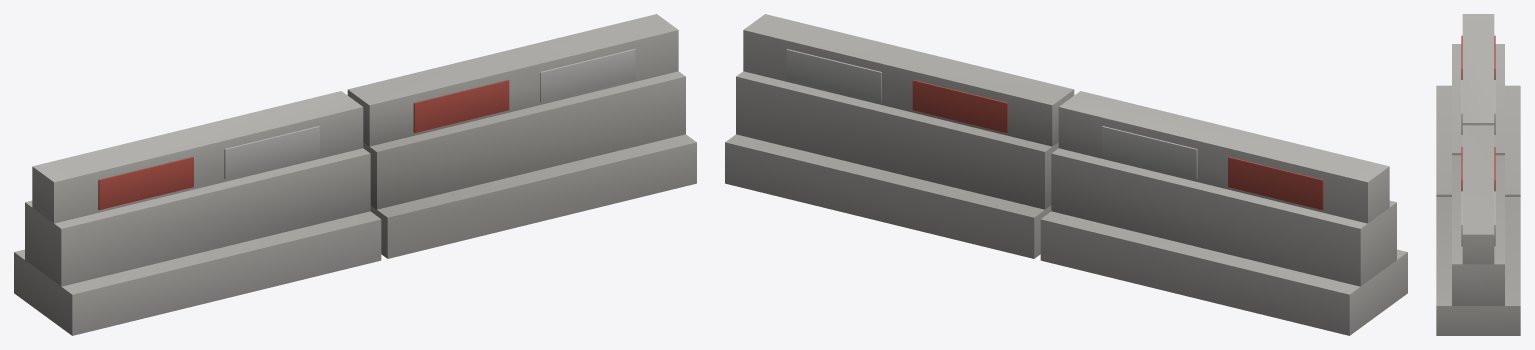
Rendered from jersey.glb.
3 renders of one model, left to right at view 1: azimuth 30°, elevation 25°; view 2: azimuth 150°, elevation 25°; view 3: azimuth 270°, elevation 25°, orthographic. The views are drawn at different scales.
Parts seen in each view (by area): view 1: jersey; view 2: jersey; view 3: jersey.
Boxes of the visible parts, bbox=[...] form: jersey: bbox=[14, 14, 696, 335]; jersey: bbox=[725, 14, 1407, 335]; jersey: bbox=[1436, 14, 1520, 335].
Size of the model in its own units: 3.96 by 0.85 by 0.64.
